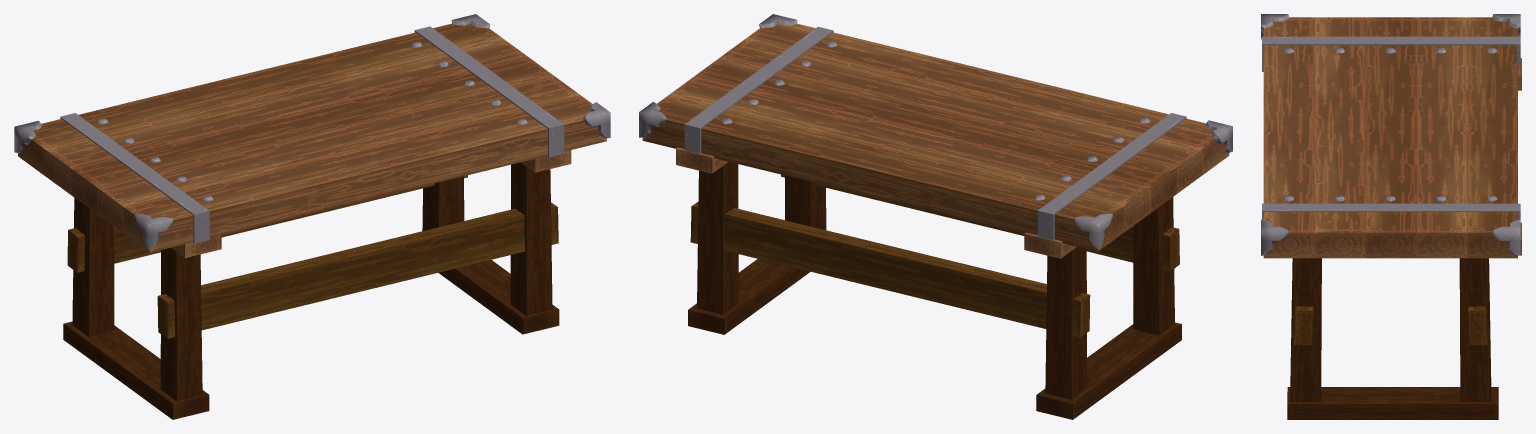
Rendered from workbench.glb.
The picture shows the model from 3 angles, left to right: view 1: azimuth 30°, elevation 25°; view 2: azimuth 150°, elevation 25°; view 3: azimuth 270°, elevation 25°; orthographic projection. The views are drawn at different scales.
Parts seen in each view (by area): view 1: Workbench; view 2: Workbench; view 3: Workbench.
Part boxes in pixels (x1,y1,x2,y2): Workbench: [14, 14, 610, 419]; Workbench: [639, 14, 1232, 419]; Workbench: [1261, 14, 1521, 419].
Bounding box in the file's own units: 2.02 × 0.8946 × 1.02.
2 materials, 2 textured.
